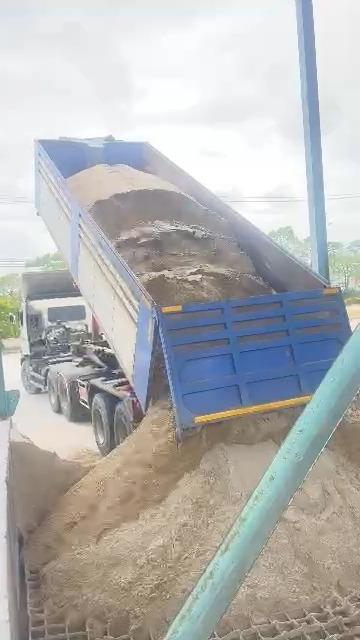sand: (28, 401, 296, 637), (68, 165, 270, 305), (228, 449, 360, 623), (10, 440, 94, 538), (329, 390, 360, 474)
